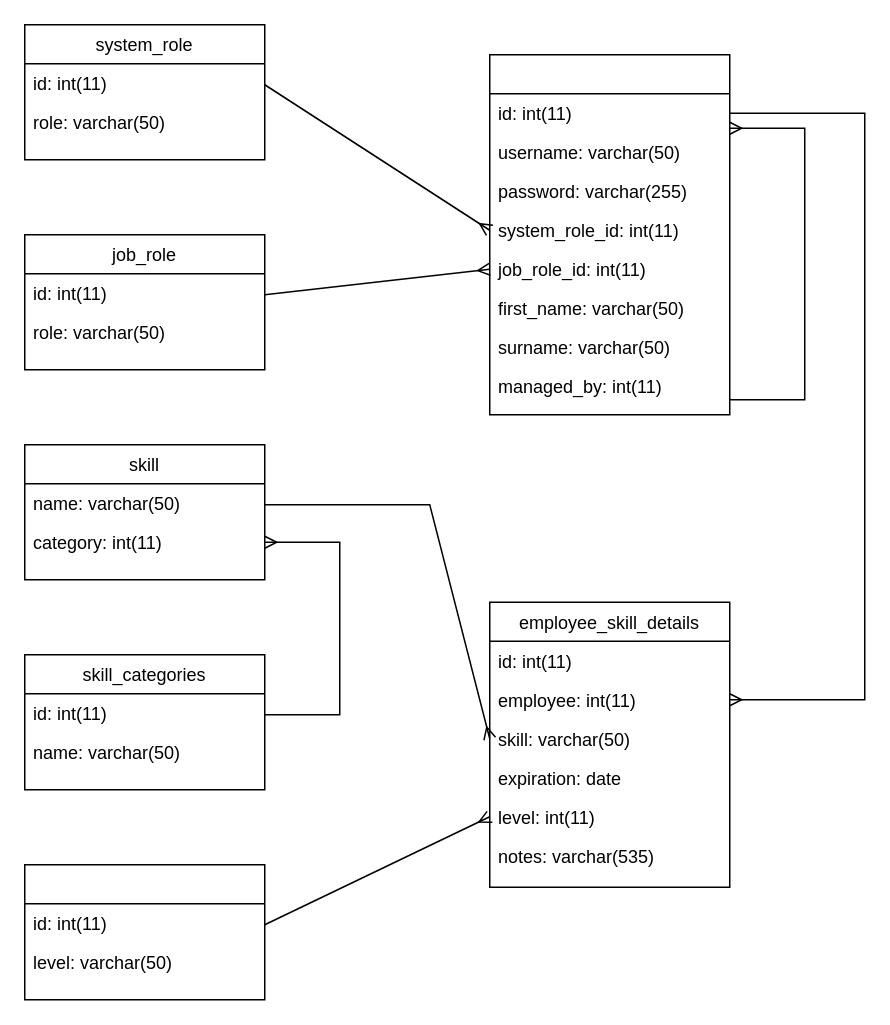
This 890x1025 diagram has some shape labels left out. The shapes that lost their labels are listed below. From the top down, each one's box as (x1, y1, x2, y2) in pixels, then its label:
(488, 53, 730, 415): employee
(23, 863, 265, 1000): skill_level
